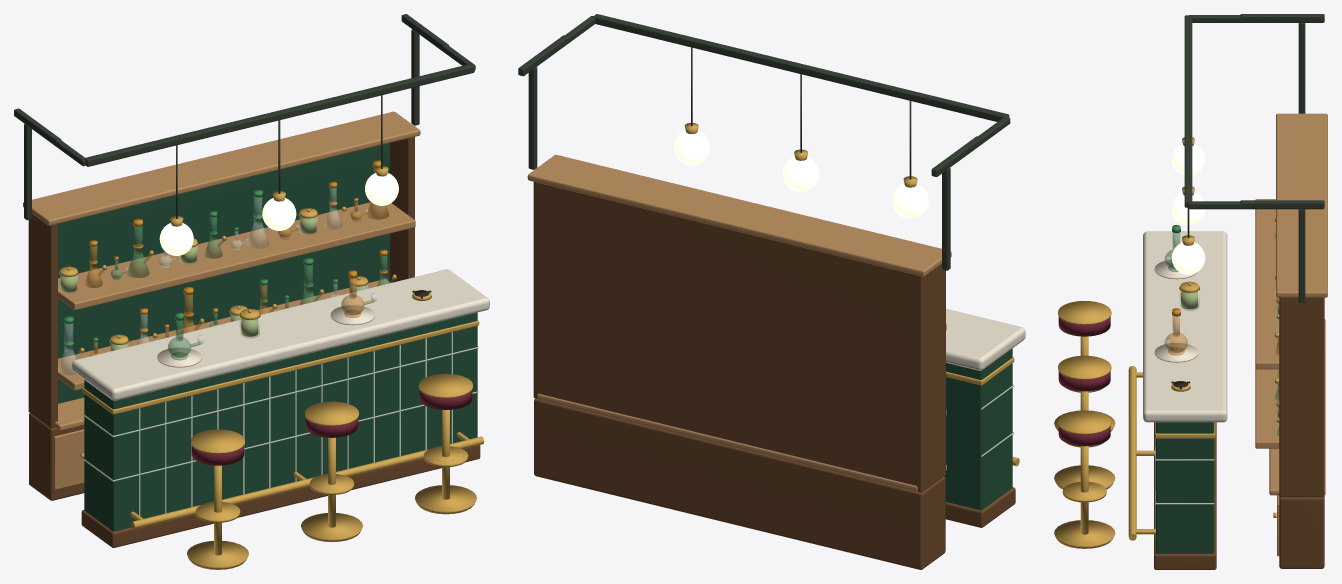
Rendered from rooftop_bar.glb.
3 renders of one model, left to right at view 1: azimuth 30°, elevation 25°; view 2: azimuth 150°, elevation 25°; view 3: azimuth 270°, elevation 25°, orthographic. The views are drawn at different scales.
Parts seen in each view (by area): view 1: BarBody, BackPanel, BarTop, BackBarCap, Shelf1, BackSide-1, BarPlinth, LampRail, BackSide1, BackBar, FootRail, BarBand (+27 smaller); view 2: BackWall, BackBar, BackBarCap, BarBody, BackSide-1, LampRail, BarTop, BackBarCounter, BackSide1, BarPlinth, BarLamp1, BarLamp0 (+3 smaller); view 3: BarTop, BackSide1, BackBarCap, BarBody, Shelf1, BackBar, Shelf0, LampRail, BarPlinth, FootRail, StoolFoot2, StoolPiping2 (+24 smaller).
Boxes of the visible parts, bbox=[...] form: BarBody: bbox=[84, 312, 477, 531]; BackPanel: bbox=[58, 143, 389, 403]; BarTop: bbox=[72, 269, 489, 400]; BackBarCap: bbox=[23, 111, 420, 225]; Shelf1: bbox=[58, 202, 415, 310]; BackSide-1: bbox=[29, 214, 57, 428]; BarPlinth: bbox=[81, 445, 480, 547]; LampRail: bbox=[84, 64, 474, 166]; BackSide1: bbox=[390, 137, 414, 282]; BackBar: bbox=[29, 413, 84, 500]; FootRail: bbox=[131, 436, 484, 529]; BarBand: bbox=[82, 320, 479, 414]; BackWall: bbox=[534, 183, 925, 491]; BackBar: bbox=[534, 398, 945, 569]; BackBarCap: bbox=[527, 154, 951, 276]; BarBody: bbox=[944, 348, 1012, 510]; BackSide-1: bbox=[915, 264, 945, 492]; LampRail: bbox=[593, 14, 1009, 121]; BarTop: bbox=[946, 308, 1025, 370]; BackBarCounter: bbox=[537, 393, 946, 491]; BackSide1: bbox=[533, 182, 539, 398]; BarPlinth: bbox=[945, 487, 1015, 527]; BarLamp1: bbox=[783, 157, 819, 192]; BarLamp0: bbox=[892, 183, 928, 218]; BarTop: bbox=[1143, 231, 1227, 422]; BackSide1: bbox=[1279, 297, 1324, 497]; BackBarCap: bbox=[1276, 113, 1327, 297]; BarBody: bbox=[1156, 422, 1214, 553]; Shelf1: bbox=[1255, 199, 1279, 369]; BackBar: bbox=[1279, 496, 1324, 568]; Shelf0: bbox=[1255, 368, 1279, 448]; LampRail: bbox=[1184, 15, 1192, 207]; BarPlinth: bbox=[1154, 422, 1216, 569]; FootRail: bbox=[1128, 366, 1136, 540]; StoolFoot2: bbox=[1054, 520, 1115, 548]; StoolPiping2: bbox=[1058, 410, 1111, 434].
Size of the model in its own units: 2.04 by 1.88 by 1.25.
